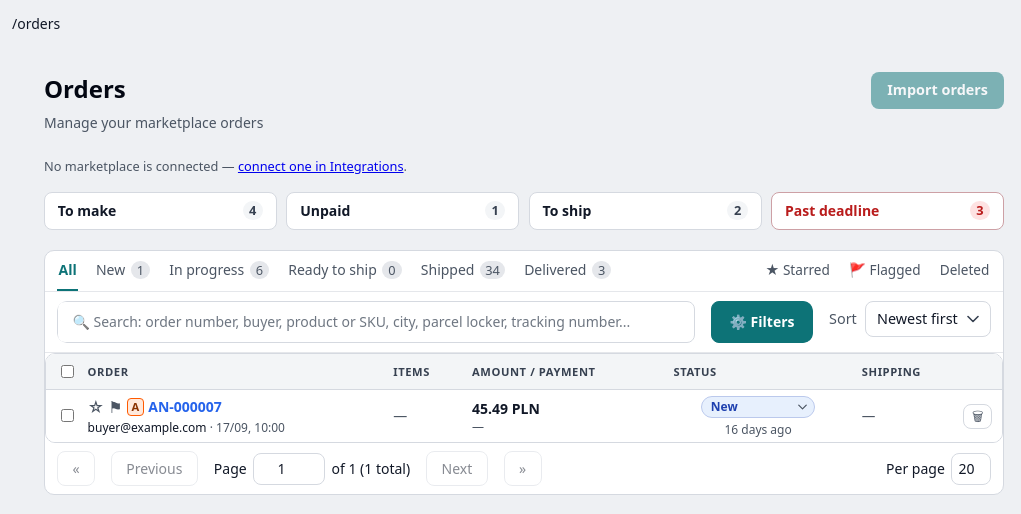
it: the quick button for new orders › asks for the new orders only, and shows itself pressed instead of All
Click the button "New 1": (123, 271) [94, 251, 152, 291]
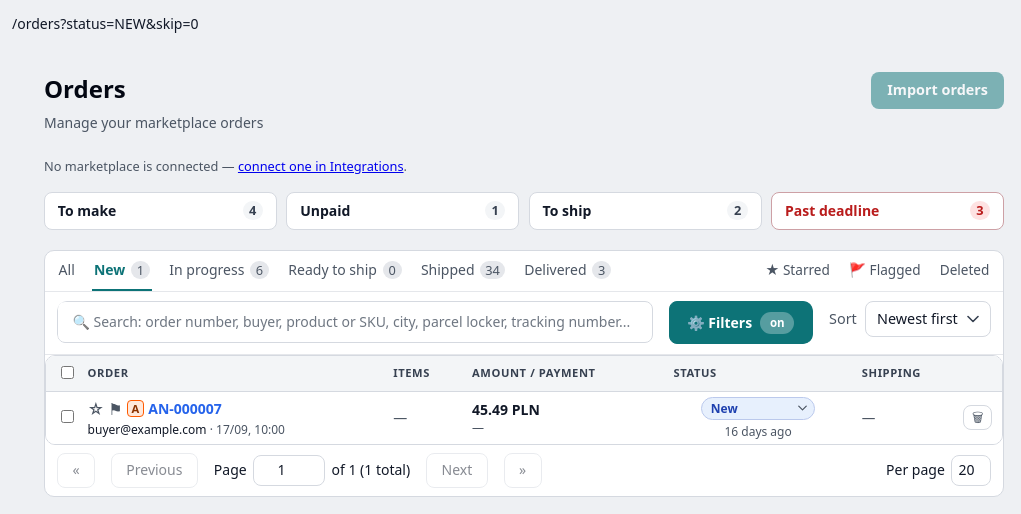
Expected: the text with test id "where" shows "status=NEW", [12, 14, 198, 33]
